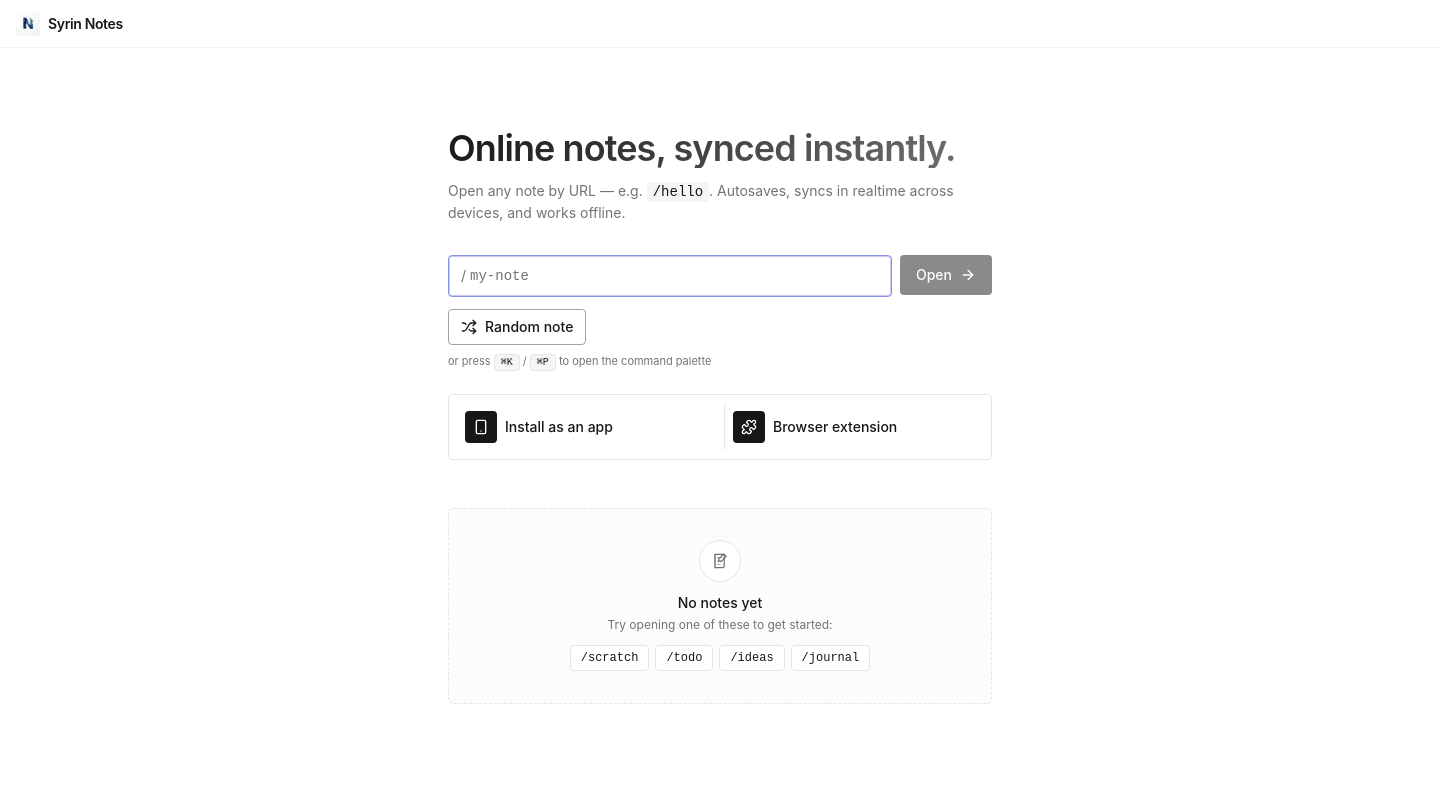
Scenario: Home install prompt vs lazy template picker › keeps the install dialog open after the lazy template picker hydrates
Step 1. Press the mouse on the button "Install as an app" → (586, 427), box [457, 403, 716, 451]
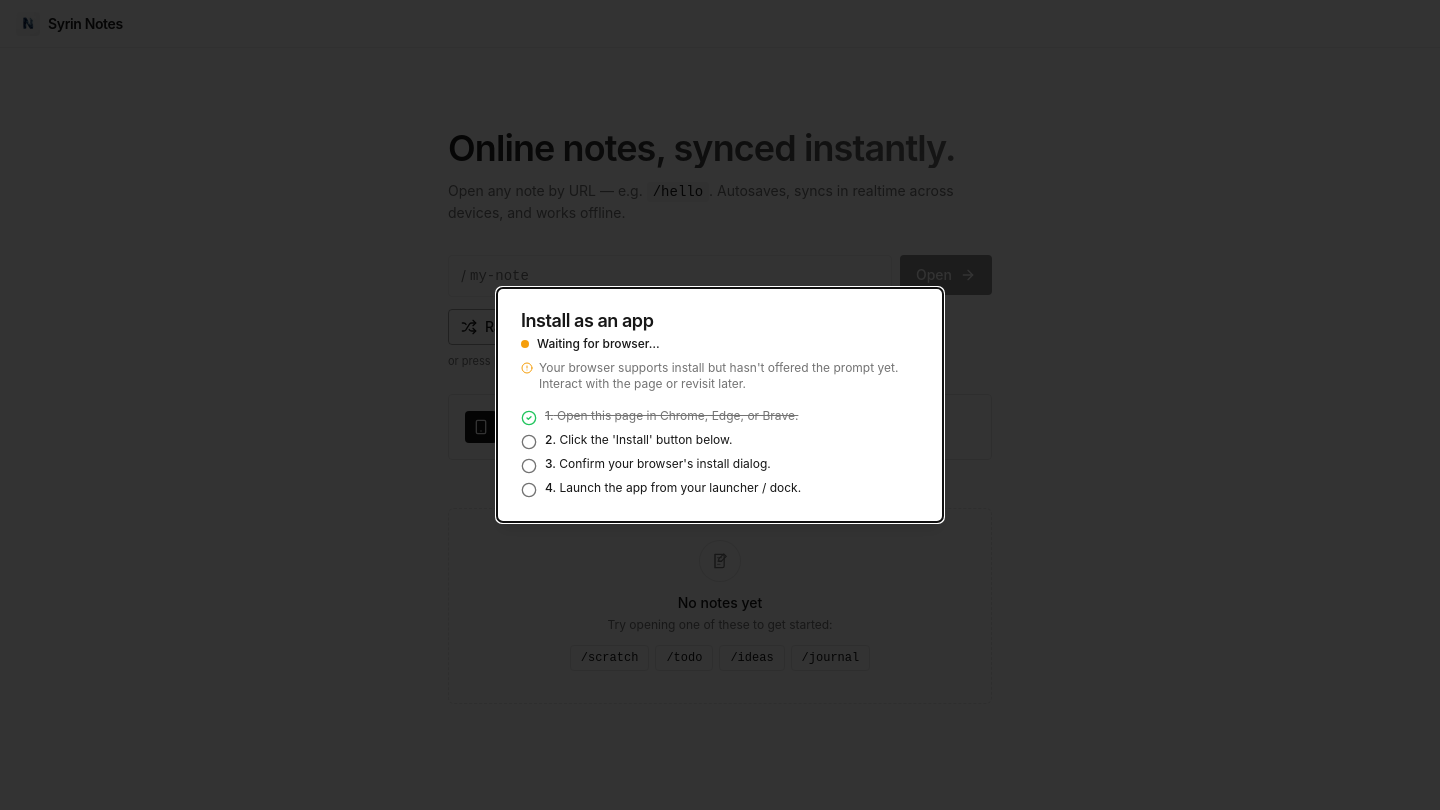
Expected: the dropdown named "Note template" is shown, [650, 311, 769, 343]
Expected: the dialog is shown, [496, 287, 944, 523]
